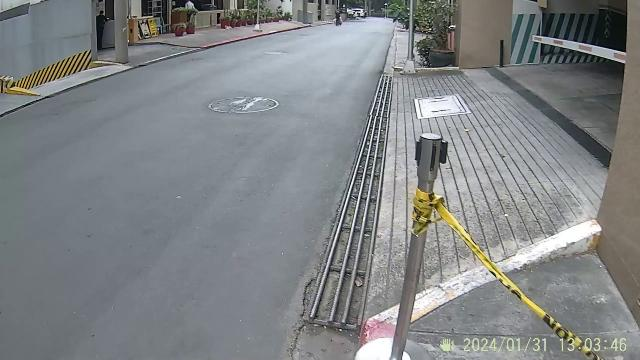construction_materials: (368, 112, 457, 360)
utility_post: (398, 0, 428, 82)
